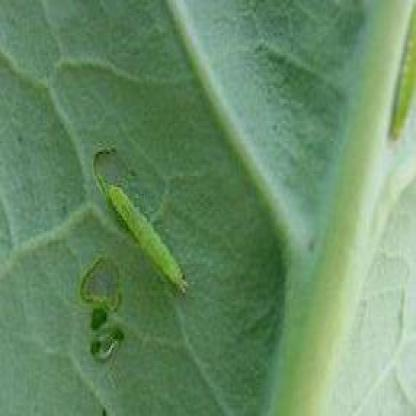armyworm: (110, 174, 194, 300)
